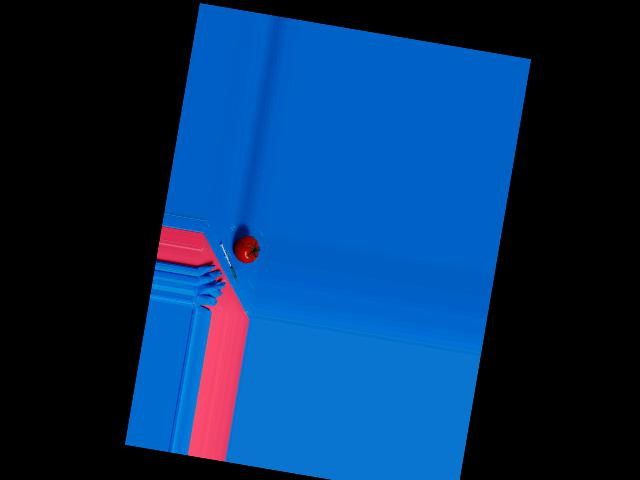tomato: (231, 234, 260, 265)
